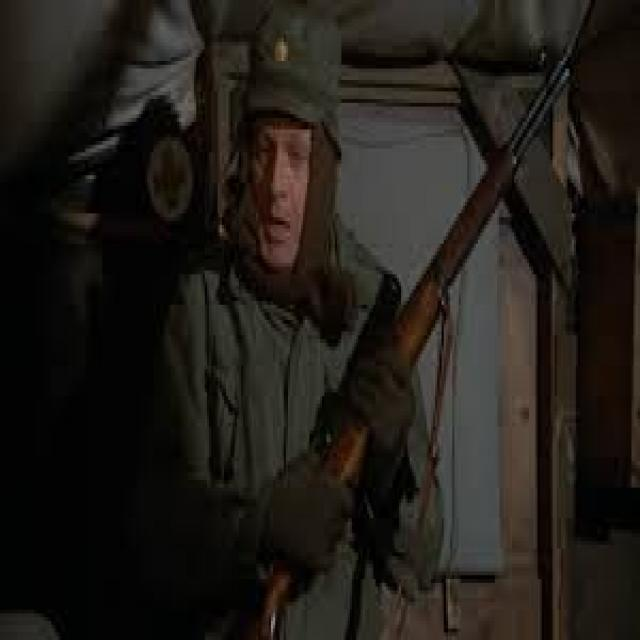weapon: (240, 35, 580, 640)
